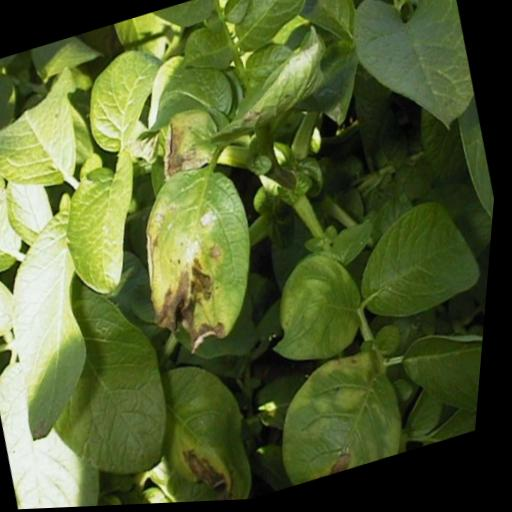Late Blight: (122, 153, 289, 369), (264, 341, 426, 492), (137, 344, 283, 506), (141, 97, 239, 192)
